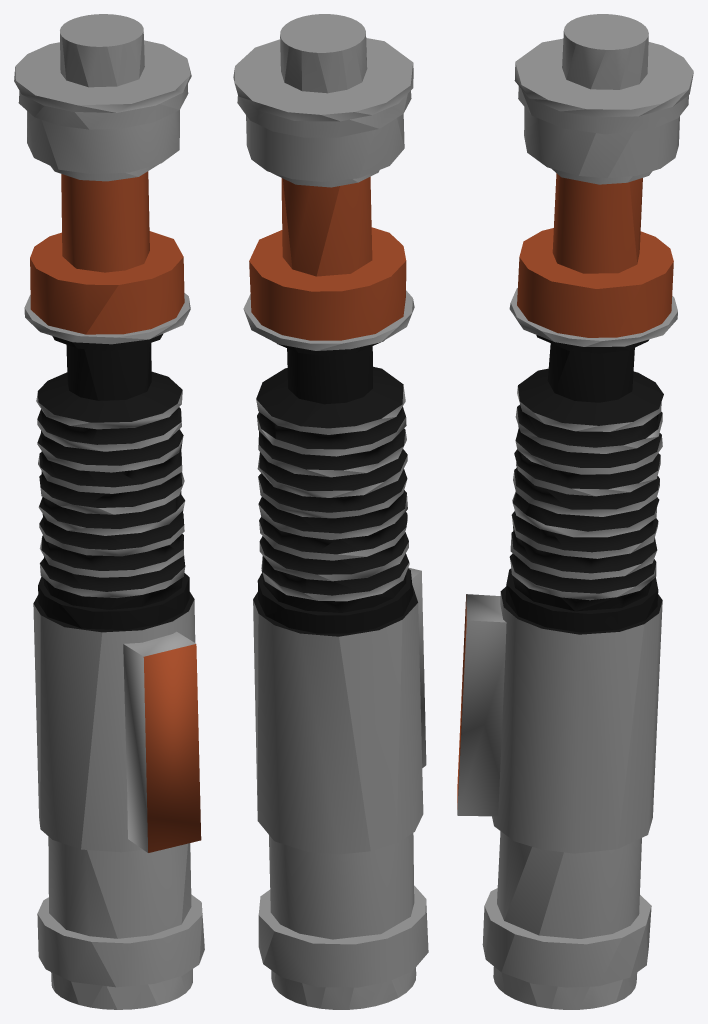
The model's file is luke skywalker_hilt.obj.
The picture shows the model from 3 angles, left to right: view 1: azimuth 30°, elevation 25°; view 2: azimuth 150°, elevation 25°; view 3: azimuth 270°, elevation 25°; orthographic projection. The views are drawn at different scales.
Parts seen in each view (by area): view 1: Cylinder.006; view 2: Cylinder.006; view 3: Cylinder.006.
Boxes of the visible parts, x1,y1,x2,y2 form: Cylinder.006: [14, 14, 204, 1009]; Cylinder.006: [233, 14, 428, 1009]; Cylinder.006: [457, 14, 693, 1009].
Bounding box in the file's own units: 0.0468 × 0.2736 × 0.0617.
